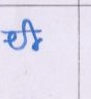i_matra: (24, 19, 40, 51)
